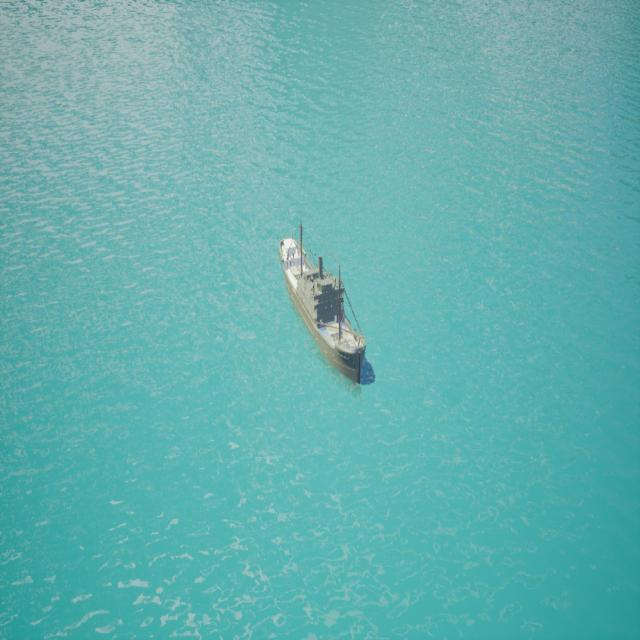fishing ship: (278, 234, 370, 392)
